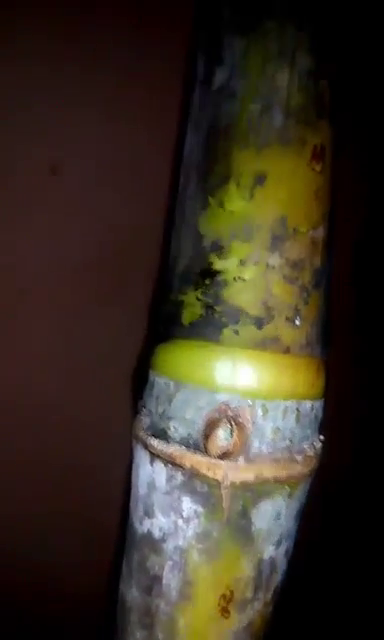cane eye: (202, 402, 251, 463)
